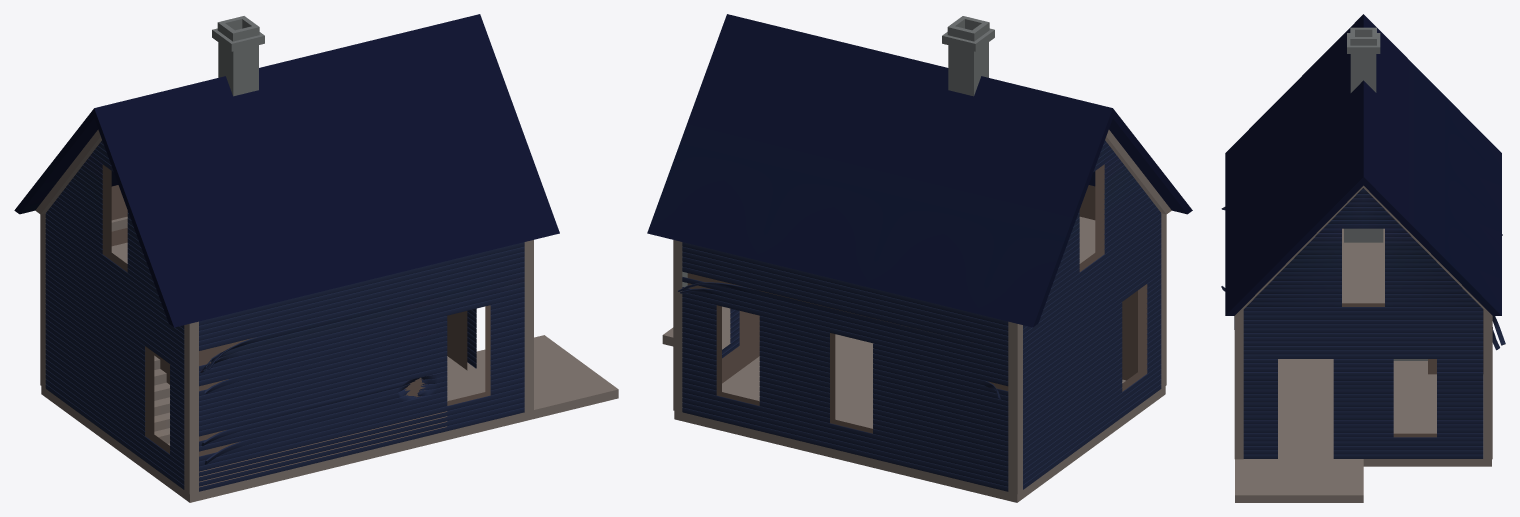
Rendered from HouseMain.fbx.
The picture shows the model from 3 angles, left to right: view 1: azimuth 30°, elevation 25°; view 2: azimuth 150°, elevation 25°; view 3: azimuth 270°, elevation 25°; orthographic projection. The views are drawn at different scales.
Parts seen in each view (by area): view 1: HouseMain; view 2: HouseMain; view 3: HouseMain.
Boxes of the visible parts, bbox=[...] form: HouseMain: bbox=[14, 14, 618, 502]; HouseMain: bbox=[647, 14, 1192, 502]; HouseMain: bbox=[1221, 14, 1505, 502].
Bounding box in the file's own units: 1050 × 878 × 665.
